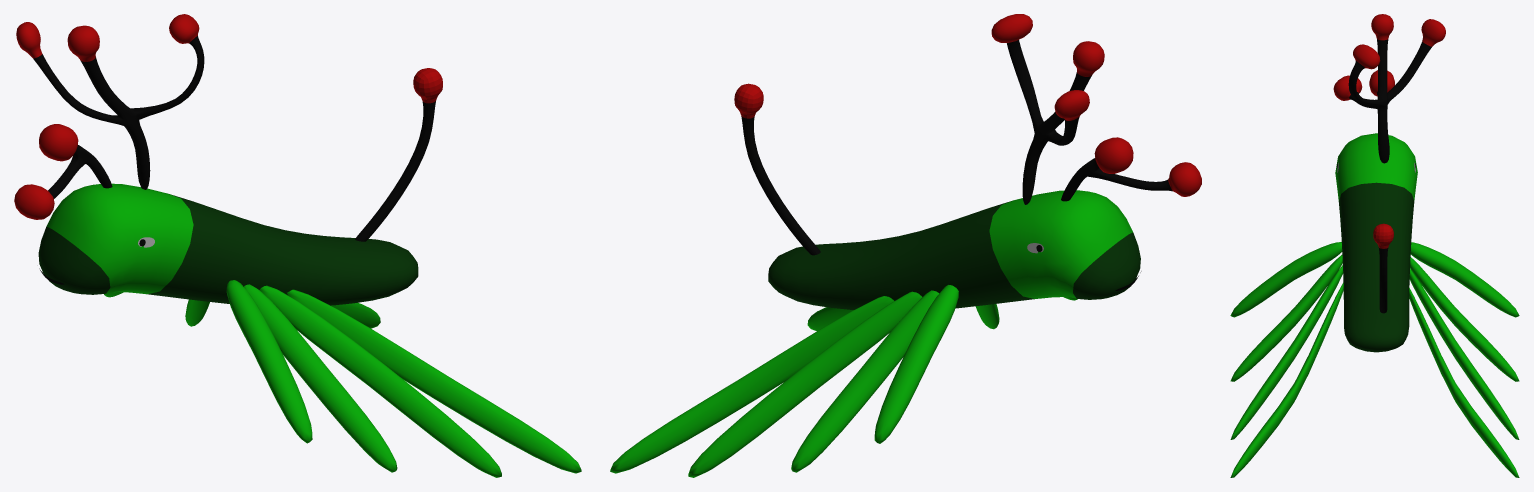
The model's file is grasshopper-5.obj.
3 views of the same model, side by side, from view 1: azimuth 30°, elevation 25°; view 2: azimuth 150°, elevation 25°; view 3: azimuth 270°, elevation 25° (orthographic). The views are drawn at different scales.
Parts seen in each view (by area): view 1: Grasshopper_Cube.4117; view 2: Grasshopper_Cube.4117; view 3: Grasshopper_Cube.4117.
Part boxes in pixels (x1,y1,x2,y2): Grasshopper_Cube.4117: [14, 14, 581, 477]; Grasshopper_Cube.4117: [610, 14, 1201, 477]; Grasshopper_Cube.4117: [1230, 14, 1519, 477].
Bounding box in the file's own units: 1.98 × 1.82 × 1.45.
